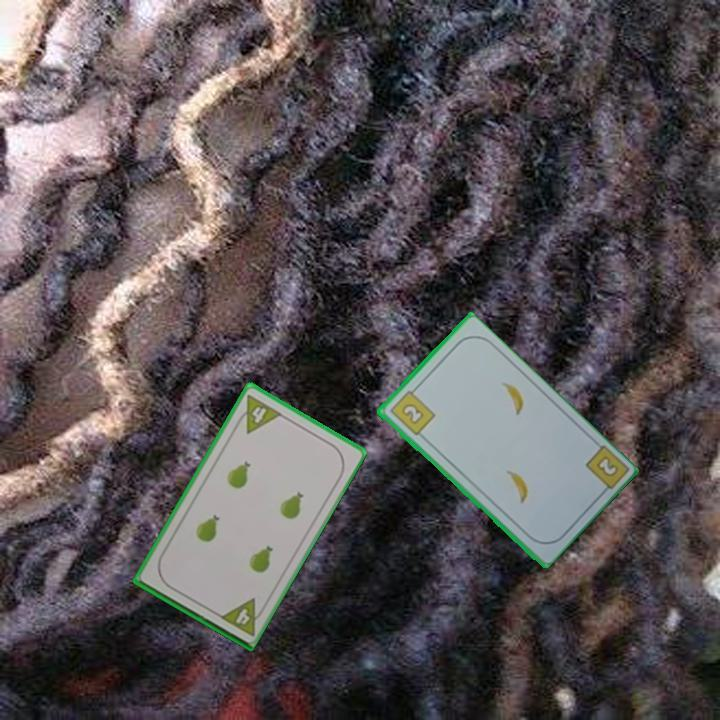2b: (386, 384, 438, 439), (581, 441, 629, 499)
4p: (231, 391, 285, 436), (215, 595, 269, 639)
